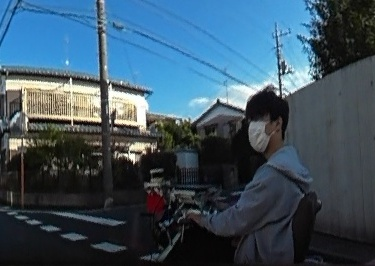person: (209, 85, 307, 266)
